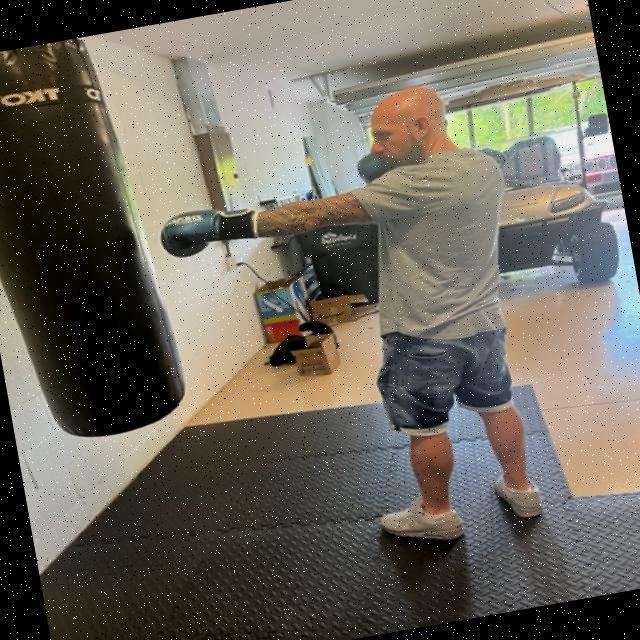jab: (125, 58, 528, 302)
